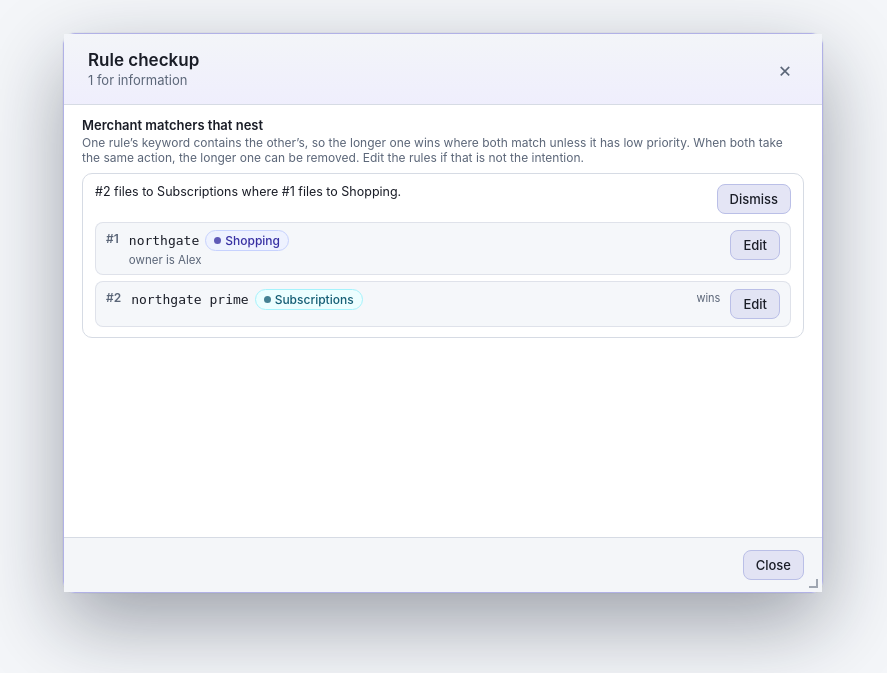
it: RuleFindingsDialog › dismisses an overlap finding in place, without re-running the ledger scan
Click the button "Dismiss" at x=754, y=199, box x1=716 y1=184 x2=791 y2=214
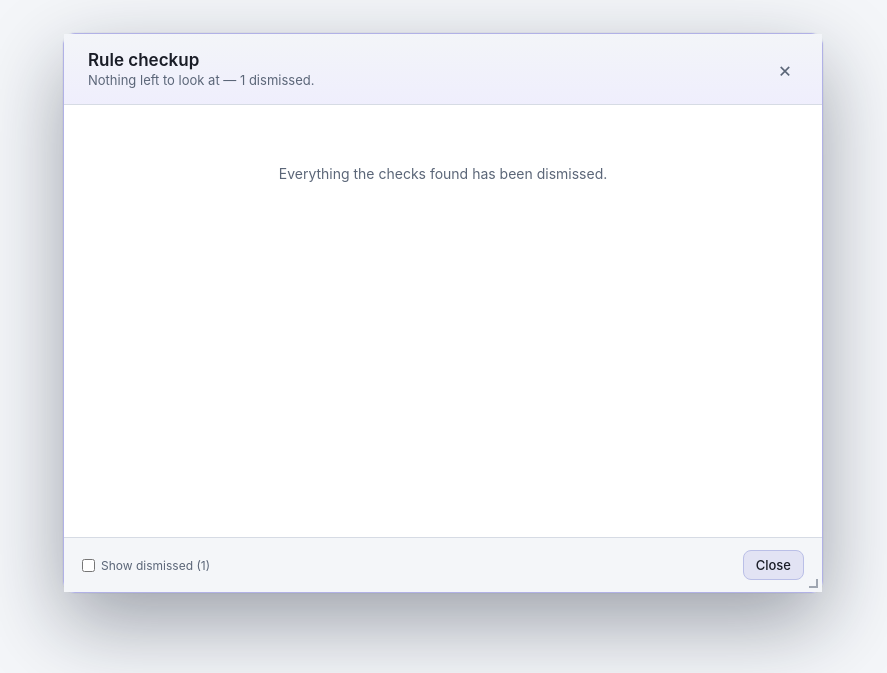
Result: the text "Nothing left to look at — 1 dismissed." is shown at x1=88 y1=72 x2=314 y2=88
